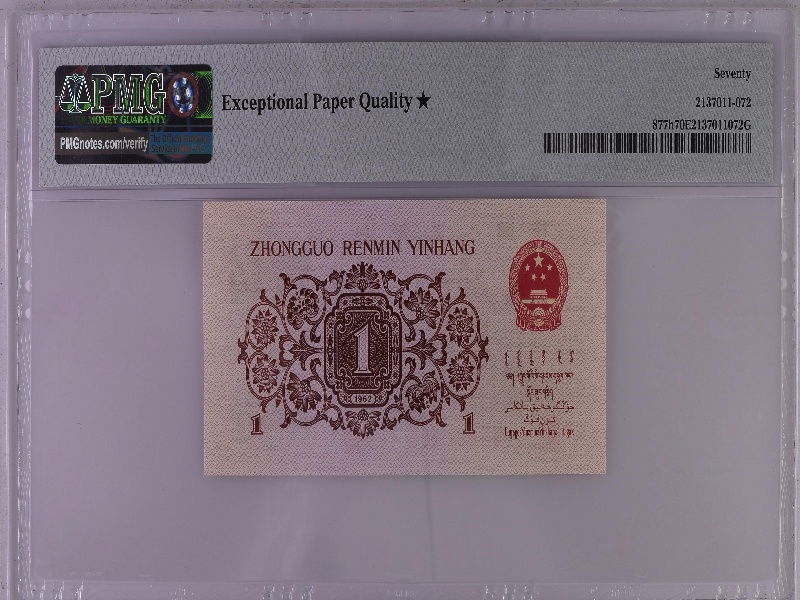papernote: (201, 196, 609, 478)
